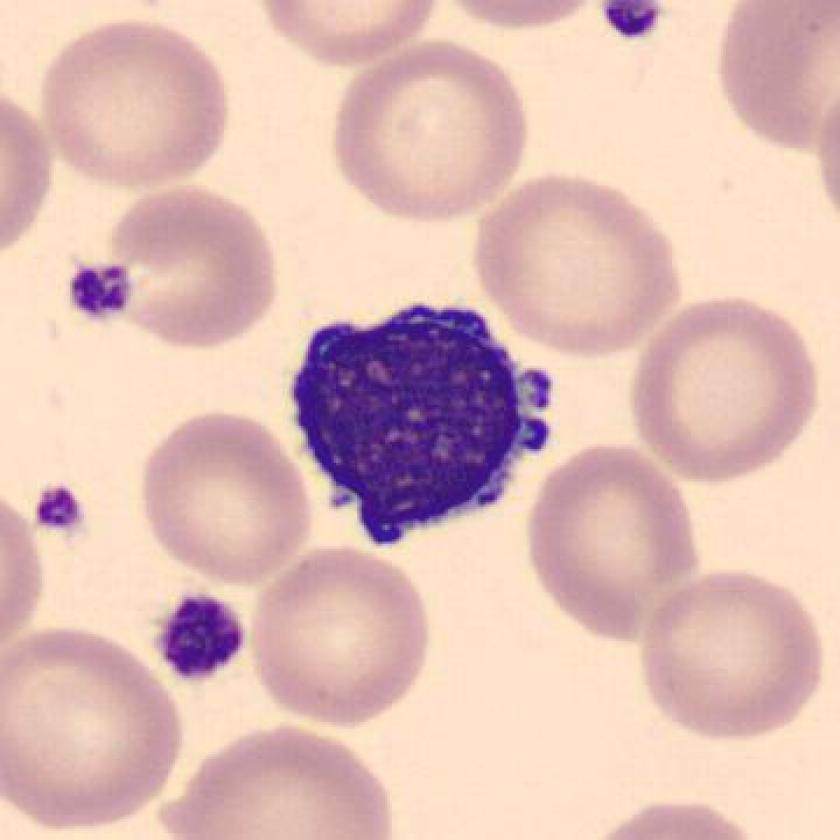lymphocyte: (279, 293, 561, 561)
